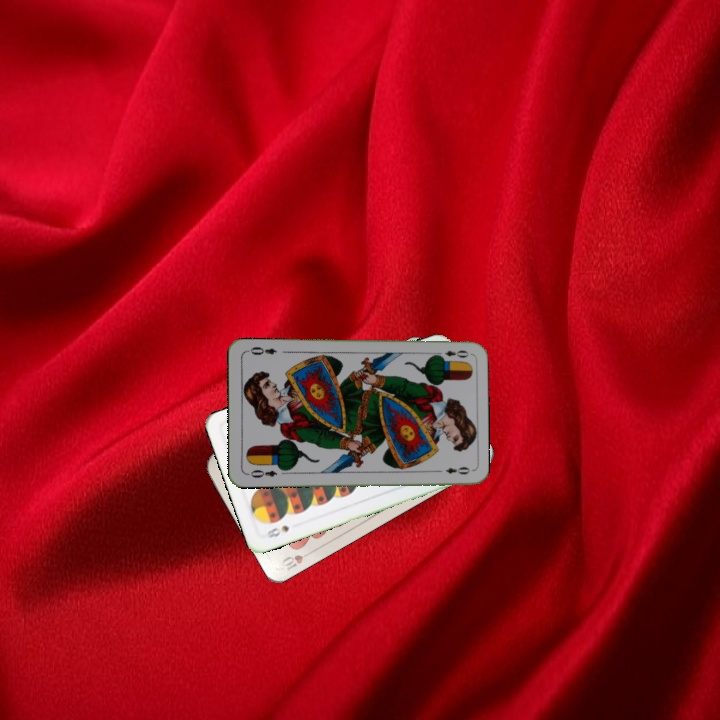EO: (431, 346, 471, 361), (243, 465, 279, 481)
H10: (278, 546, 316, 574)
S8: (260, 521, 292, 541)
